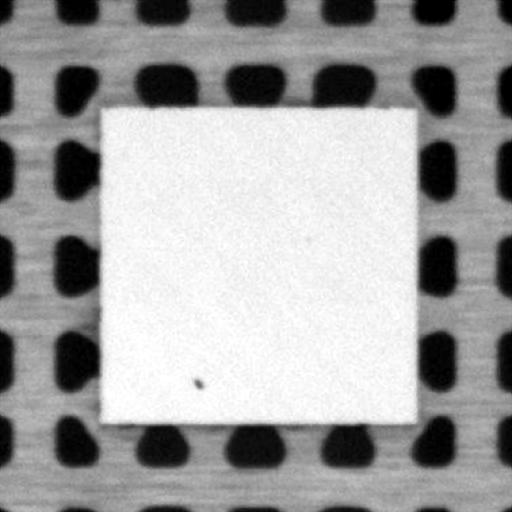DIE_INK: (191, 377, 206, 390)
